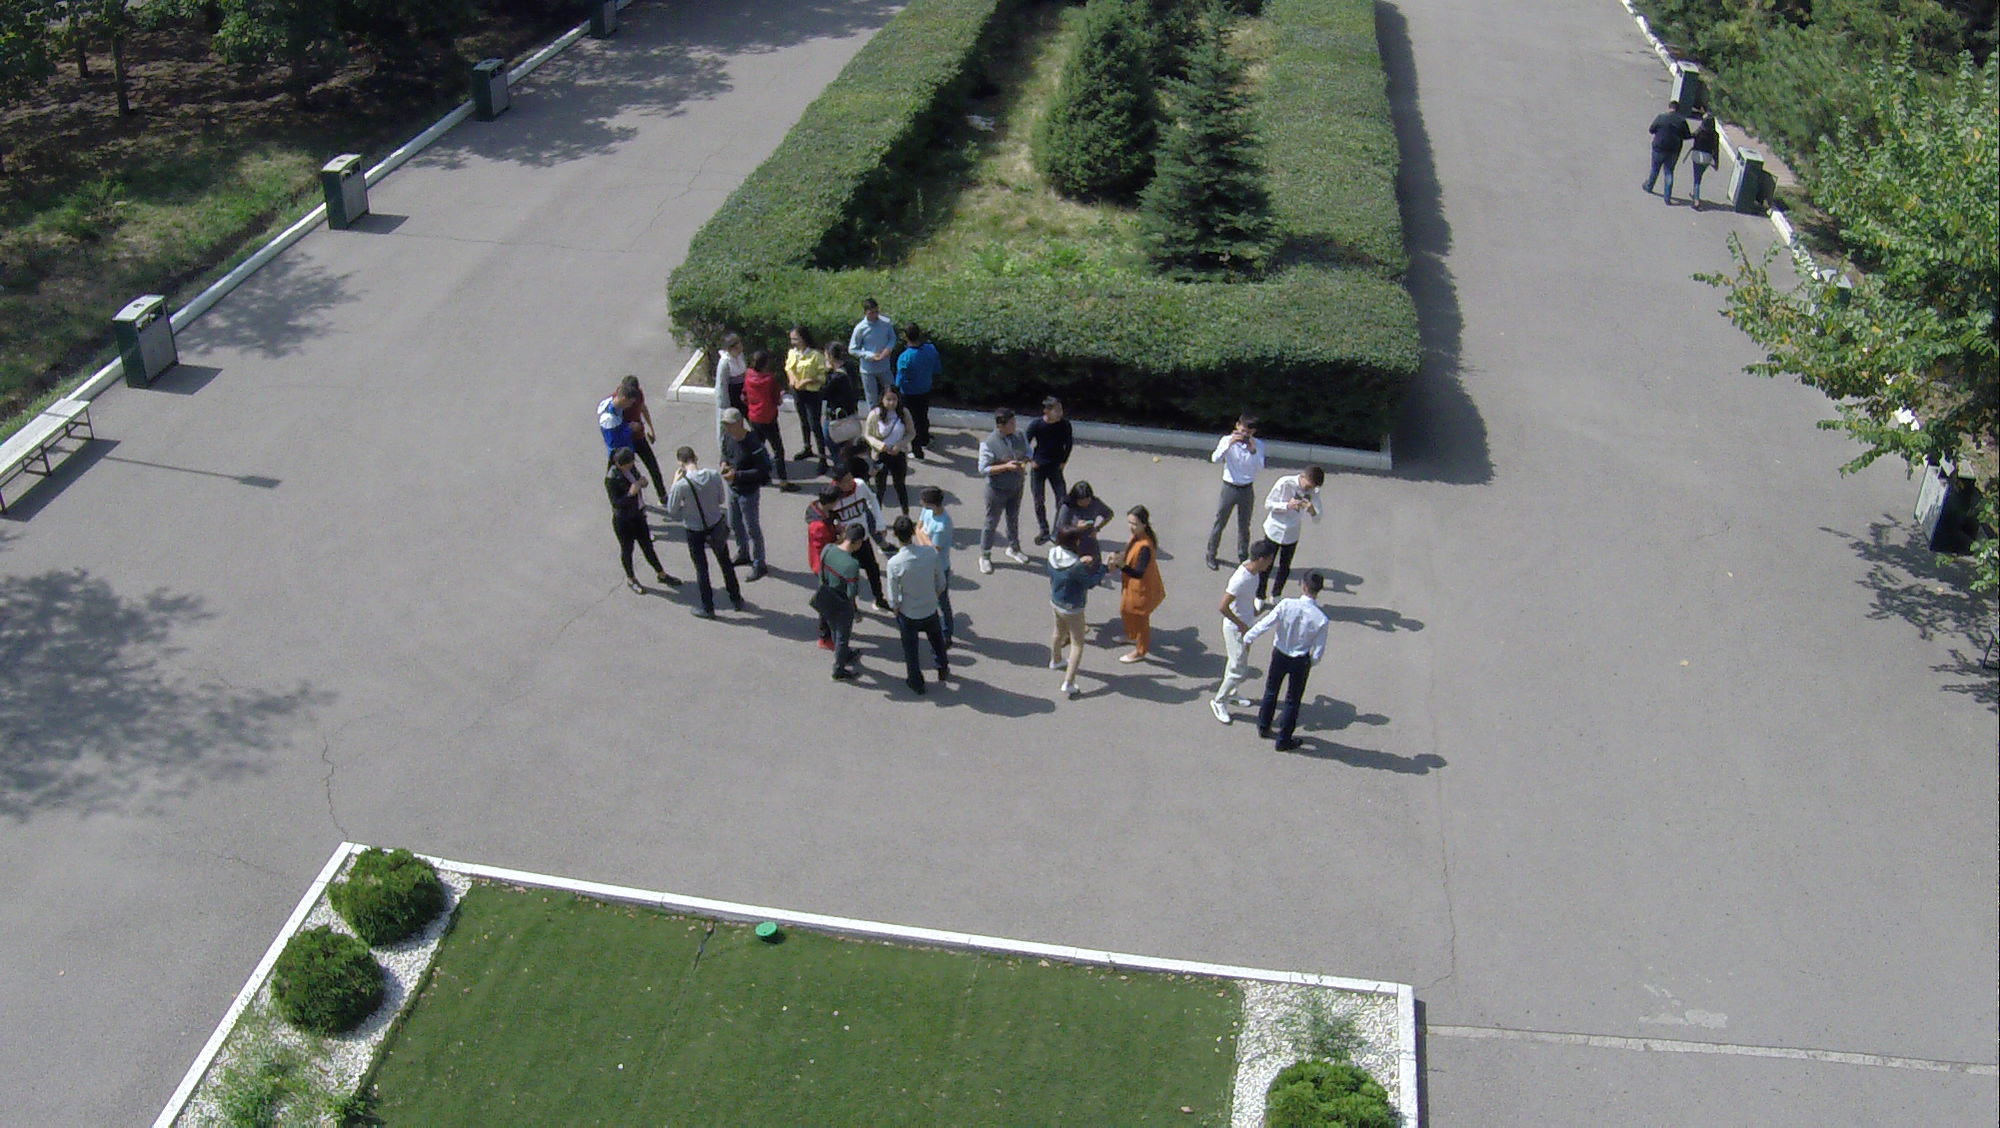person: (1253, 574, 1335, 760), (668, 445, 739, 622), (891, 520, 962, 699), (968, 410, 1032, 583), (1251, 468, 1324, 616), (603, 449, 674, 599), (1201, 412, 1260, 568), (724, 403, 770, 574), (1039, 530, 1085, 701), (1118, 505, 1168, 664), (820, 530, 868, 691), (1032, 391, 1078, 545), (1224, 545, 1262, 724), (843, 295, 899, 412), (889, 320, 935, 453), (741, 353, 789, 470), (787, 326, 828, 451), (1680, 108, 1722, 210), (699, 326, 741, 422), (601, 372, 639, 468), (1651, 101, 1682, 212), (828, 464, 876, 533), (870, 389, 916, 458), (912, 487, 955, 551), (810, 341, 849, 408), (1064, 480, 1097, 541), (812, 476, 835, 547)
